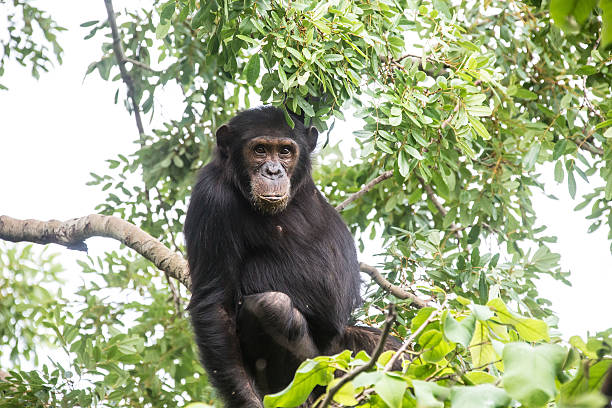chimpanzee: (203, 98, 318, 224)
